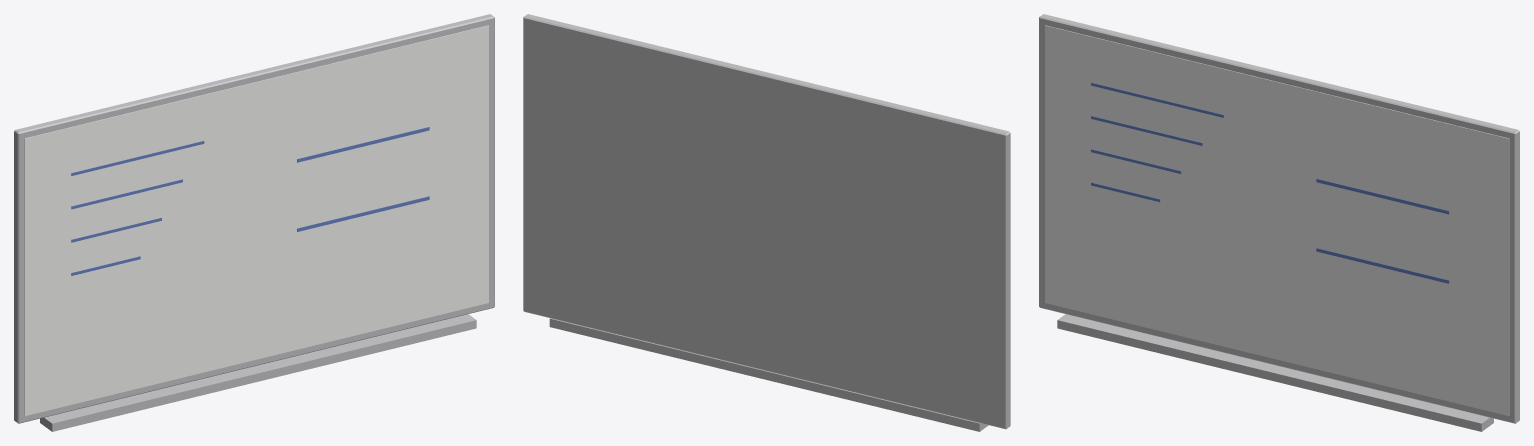
Rendered from whiteboard.glb.
3 renders of one model, left to right at view 1: azimuth 30°, elevation 25°; view 2: azimuth 150°, elevation 25°; view 3: azimuth 330°, elevation 25°, orthographic.
Parts seen in each view (by area): view 1: board, metal, ink; view 2: metal; view 3: board, metal, ink.
Part boxes in pixels (x1,y1,x2,y2): board: [24, 25, 488, 415]; metal: [14, 14, 494, 431]; ink: [71, 127, 429, 275]; metal: [523, 14, 1010, 431]; board: [1045, 25, 1509, 415]; metal: [1039, 14, 1519, 431]; ink: [1091, 82, 1449, 283].
Bounding box in the file's own units: 1.8 × 1.08 × 0.08.
